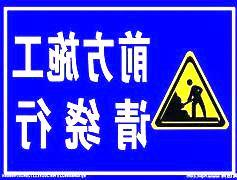sign: (3, 4, 237, 174)
